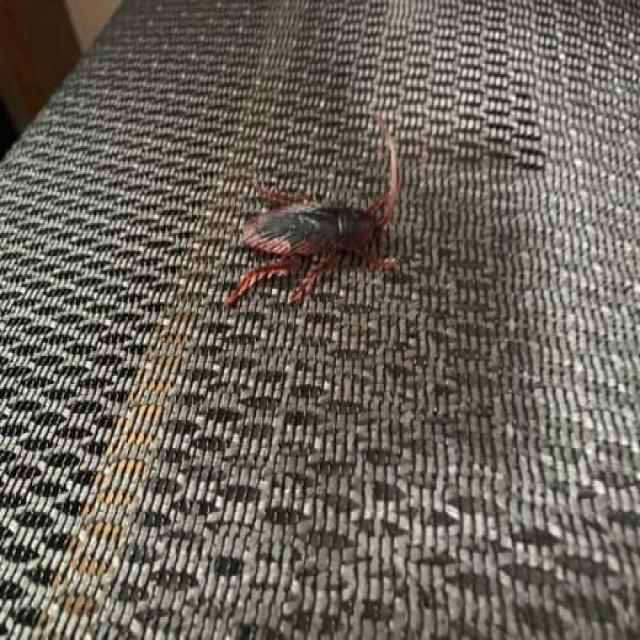Cockroach: (216, 103, 414, 315)
